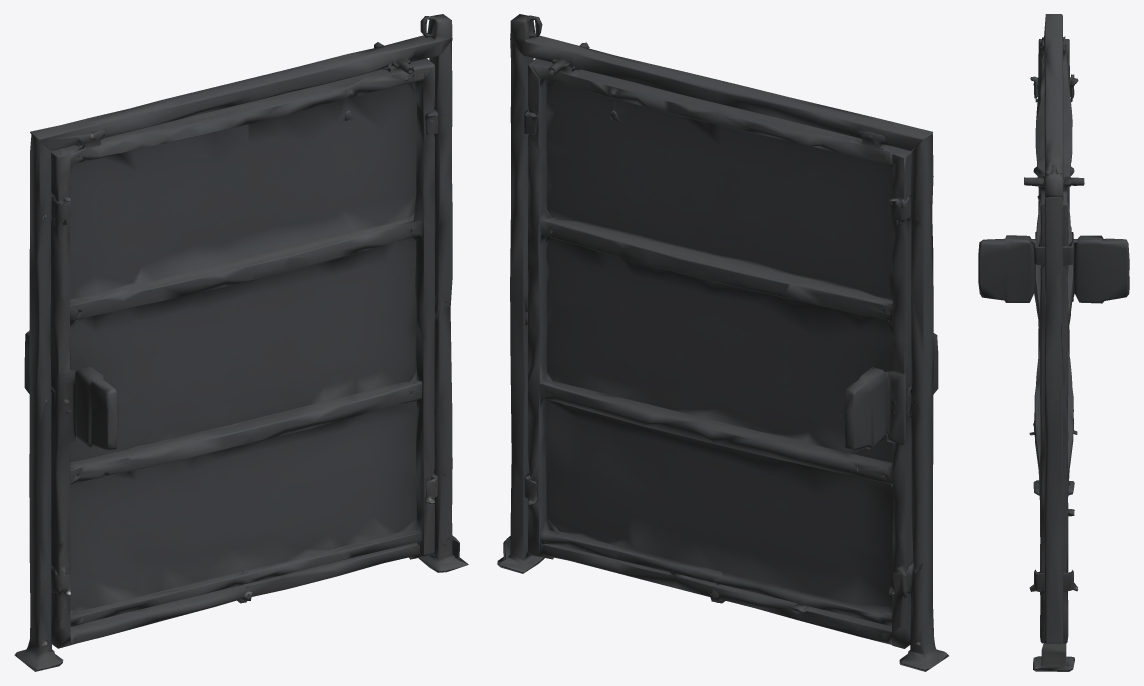
Rendered from level1-industrial-gate.glb.
The picture shows the model from 3 angles, left to right: view 1: azimuth 30°, elevation 25°; view 2: azimuth 150°, elevation 25°; view 3: azimuth 270°, elevation 25°; orthographic projection. The views are drawn at different scales.
Parts seen in each view (by area): view 1: tripo_node_ef2b4a50-5f60-4836-8138-b8f9ce95eb62; view 2: tripo_node_ef2b4a50-5f60-4836-8138-b8f9ce95eb62; view 3: tripo_node_ef2b4a50-5f60-4836-8138-b8f9ce95eb62.
Boxes of the visible parts, x1,y1,x2,y2 form: tripo_node_ef2b4a50-5f60-4836-8138-b8f9ce95eb62: [14, 14, 468, 671]; tripo_node_ef2b4a50-5f60-4836-8138-b8f9ce95eb62: [497, 14, 948, 671]; tripo_node_ef2b4a50-5f60-4836-8138-b8f9ce95eb62: [978, 14, 1129, 671].
Size of the model in its own units: 0.8102 by 0.9777 by 0.2722.
Materials: 1 (1 with a texture image).
